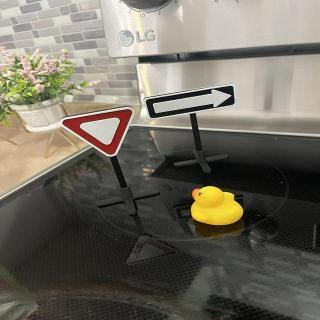duck_regular: (189, 186, 246, 229)
sign_oneway_right: (145, 83, 239, 121)
sign_yield: (61, 107, 137, 158)
